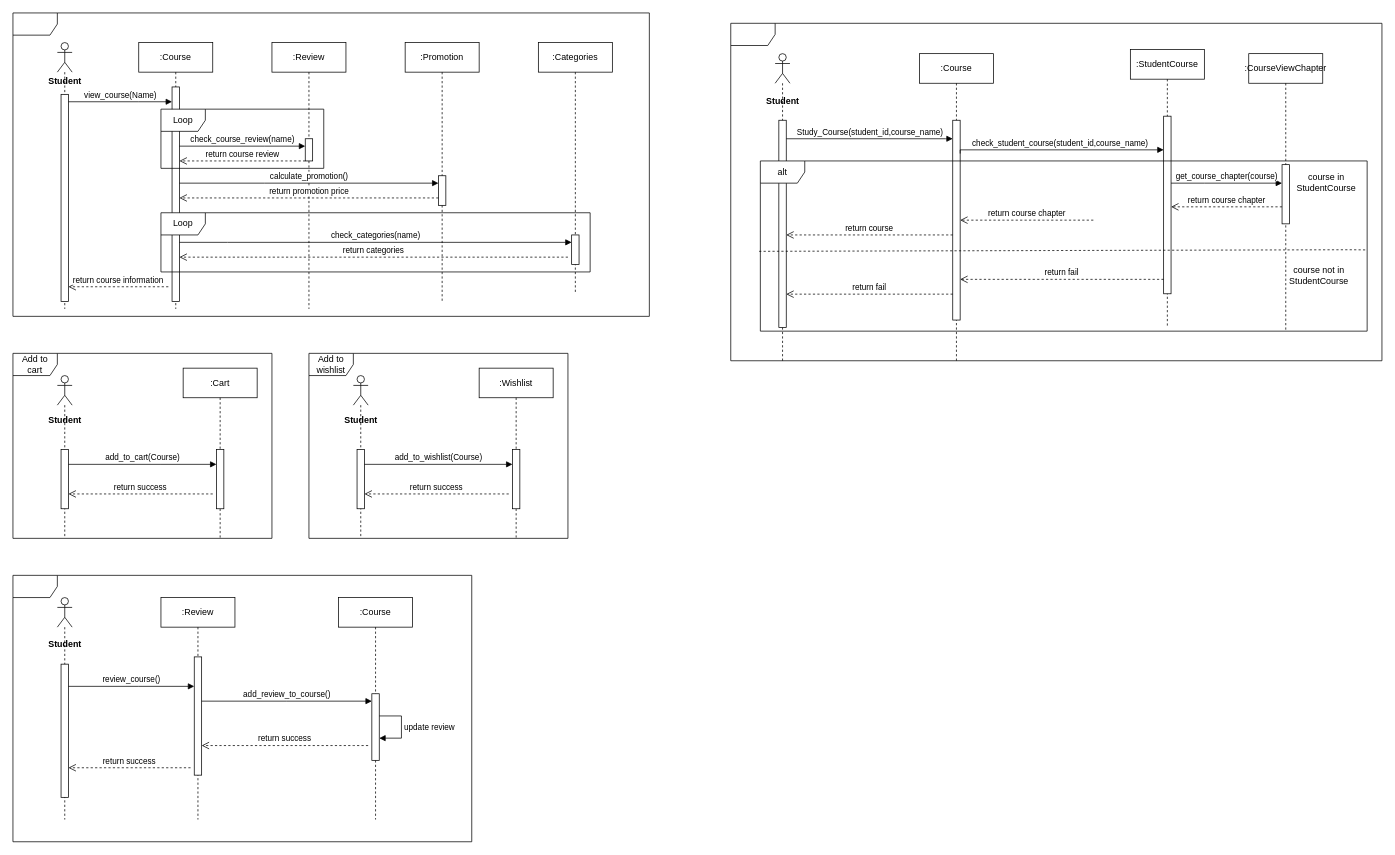
The diagram is 1395 pixels wide and 855 high, and some of its shapes have lost their labels. The centre of each missing label's shape, as x and y in pixels:
"Review course" belongs at (x=242, y=708).
"Study Course" belongs at (x=1056, y=192).
"View course" belongs at (x=330, y=164).
